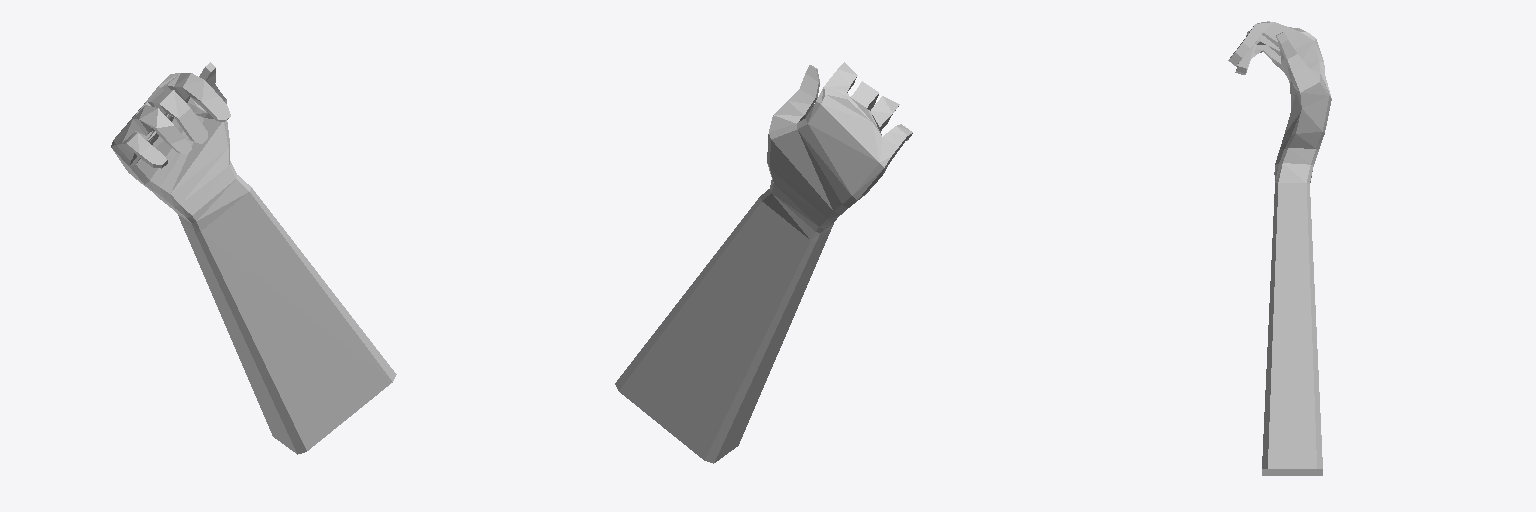
File: hand_anim3.obj
The picture shows the model from 3 angles: view 1: azimuth 30°, elevation 25°; view 2: azimuth 150°, elevation 25°; view 3: azimuth 270°, elevation 25°; orthographic projection.
Parts seen in each view (by area): view 1: Cube.001; view 2: Cube.001; view 3: Cube.001.
Boxes of the visible parts, box(x1,y1,x2,y2) form: Cube.001: box(111, 62, 396, 454); Cube.001: box(615, 62, 912, 463); Cube.001: box(1228, 21, 1331, 475).
Size of the model in its own units: 1.98 by 2.85 by 0.66.